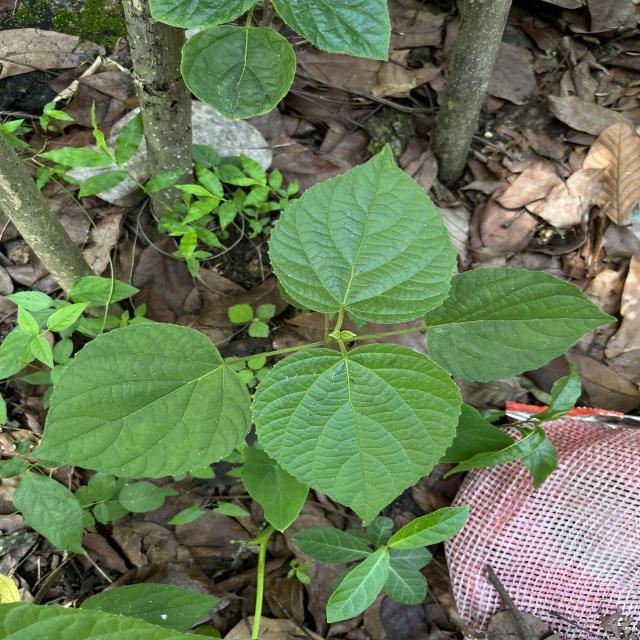Clerodendrum infortunatum: (250, 342, 464, 528), (27, 321, 254, 481), (266, 140, 460, 326), (423, 265, 619, 385)
